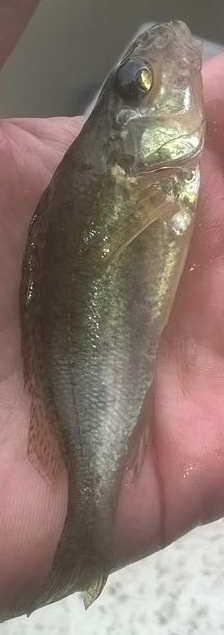Gymnocephalus cernuus: (20, 20, 204, 615)
